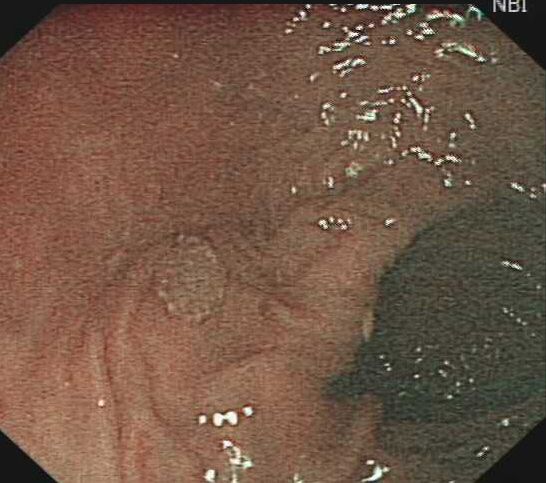others: (154, 232, 230, 327)
